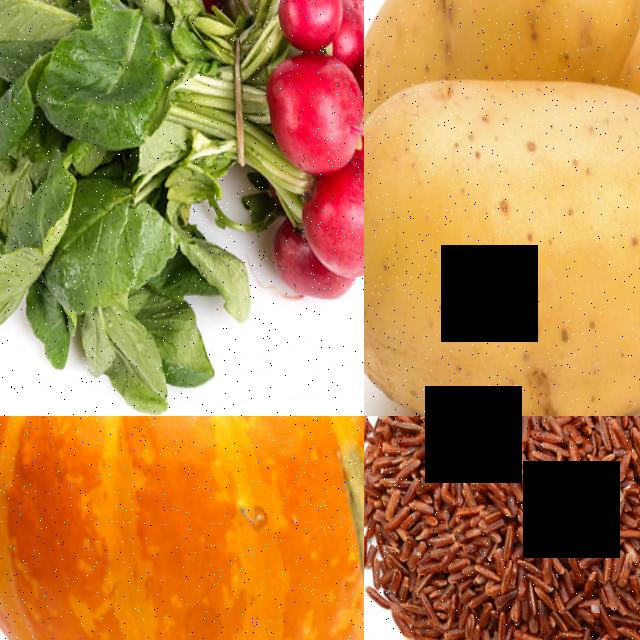potato: (364, 37, 640, 416), (364, 0, 640, 96)
pumpkin: (0, 416, 364, 640)
radishes: (59, 0, 364, 326)
red rice: (364, 416, 640, 640)
